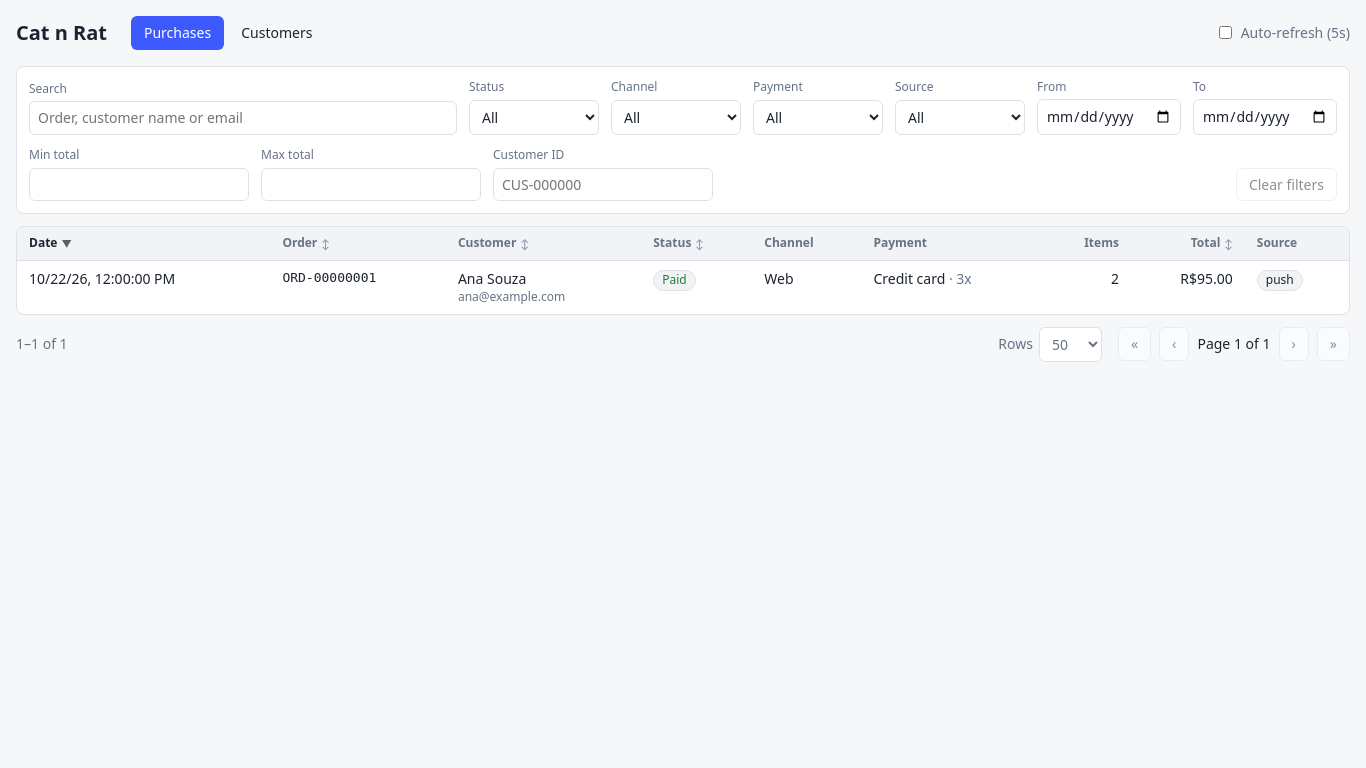
purchases view › shows the items when a row is clicked
The image size is (1366, 768).
Click the text "ORD-00000001". click: (358,287)
box: x1=270 y1=261 x2=446 y2=314
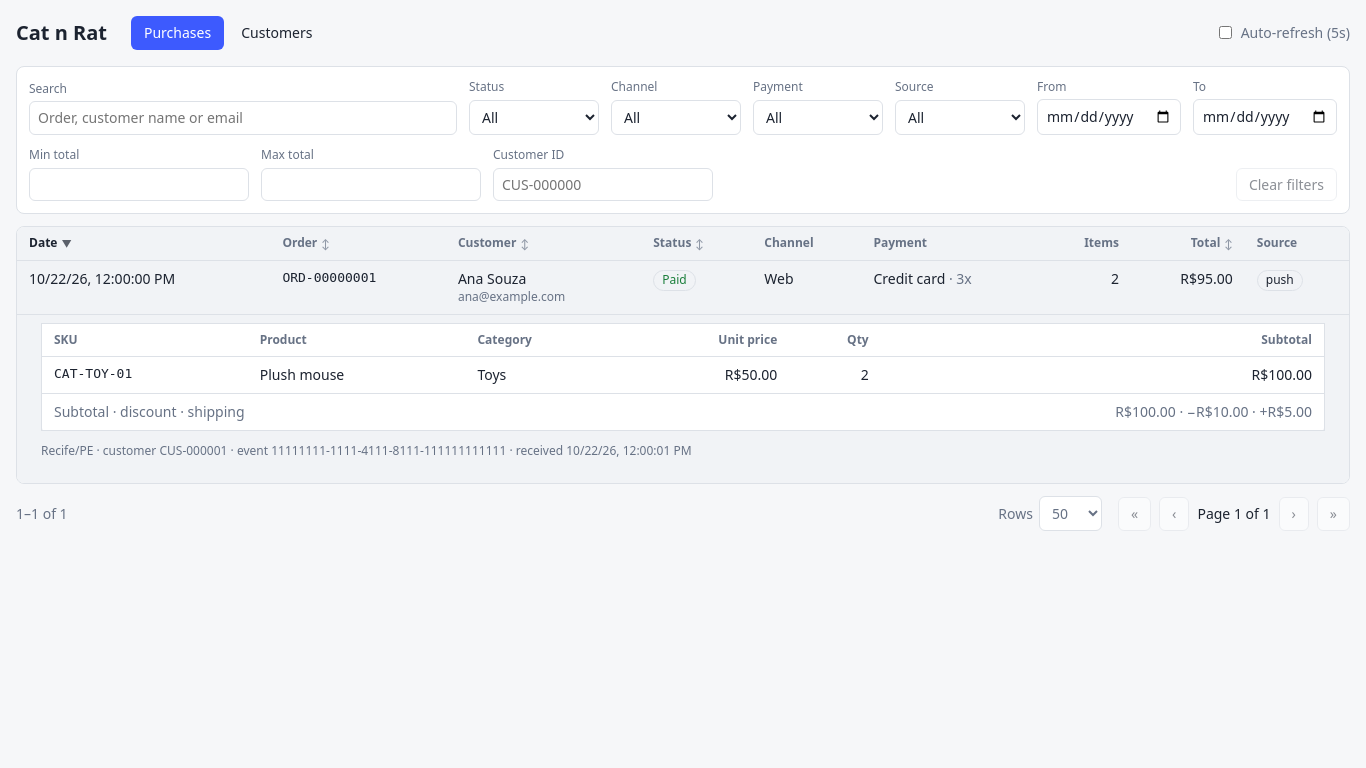
Expected: the text "Plush mouse" is shown, x1=248 y1=357 x2=466 y2=394
